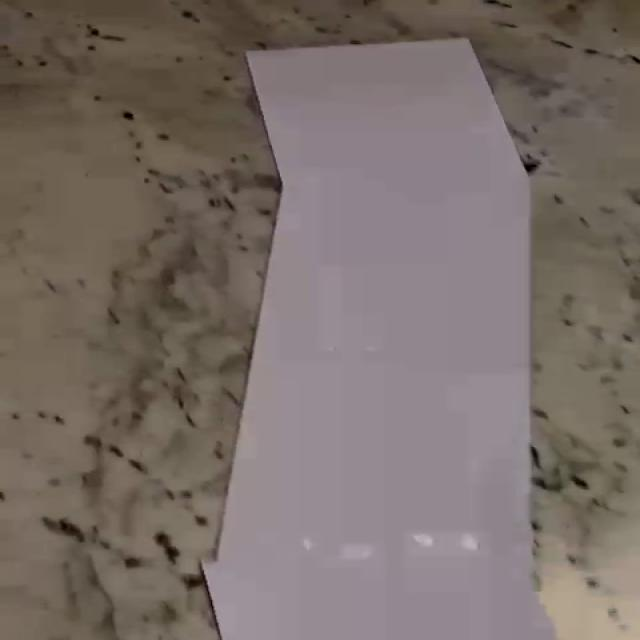road: (200, 38, 556, 640)
